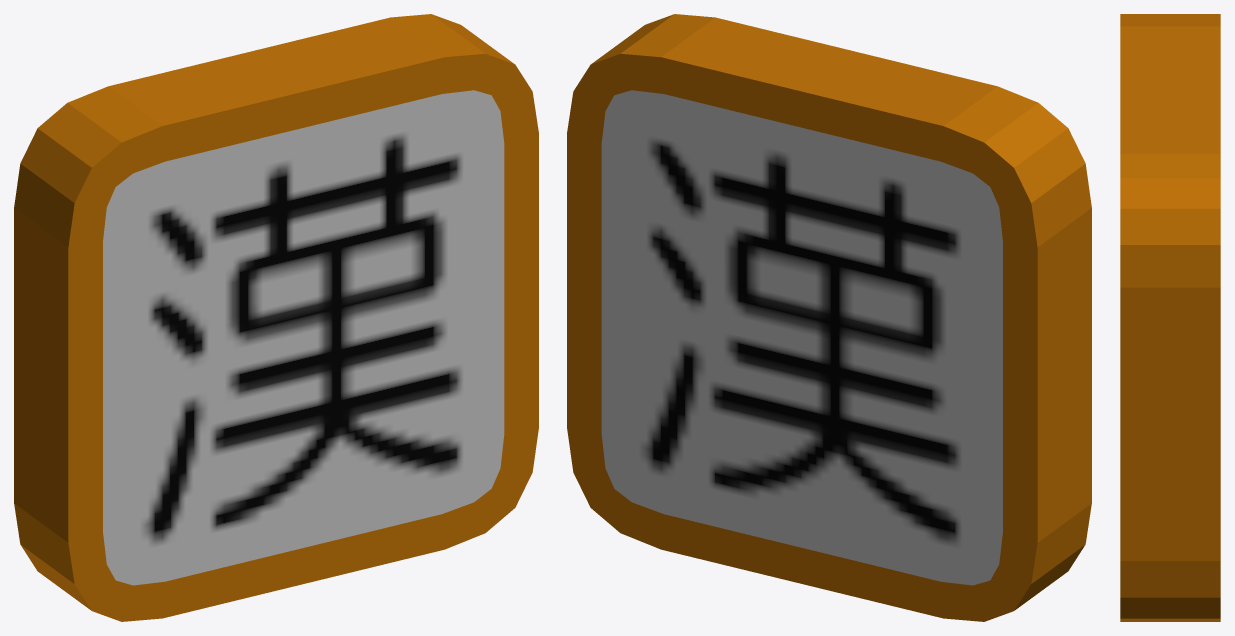
Rendered from icon1.ico.obj.
3 renders of one model, left to right at view 1: azimuth 30°, elevation 25°; view 2: azimuth 150°, elevation 25°; view 3: azimuth 270°, elevation 25°, orthographic. The views are drawn at different scales.
Size of the model in its own units: 2.5 by 2.5 by 0.5.
Materials: 1 (1 with a texture image).
